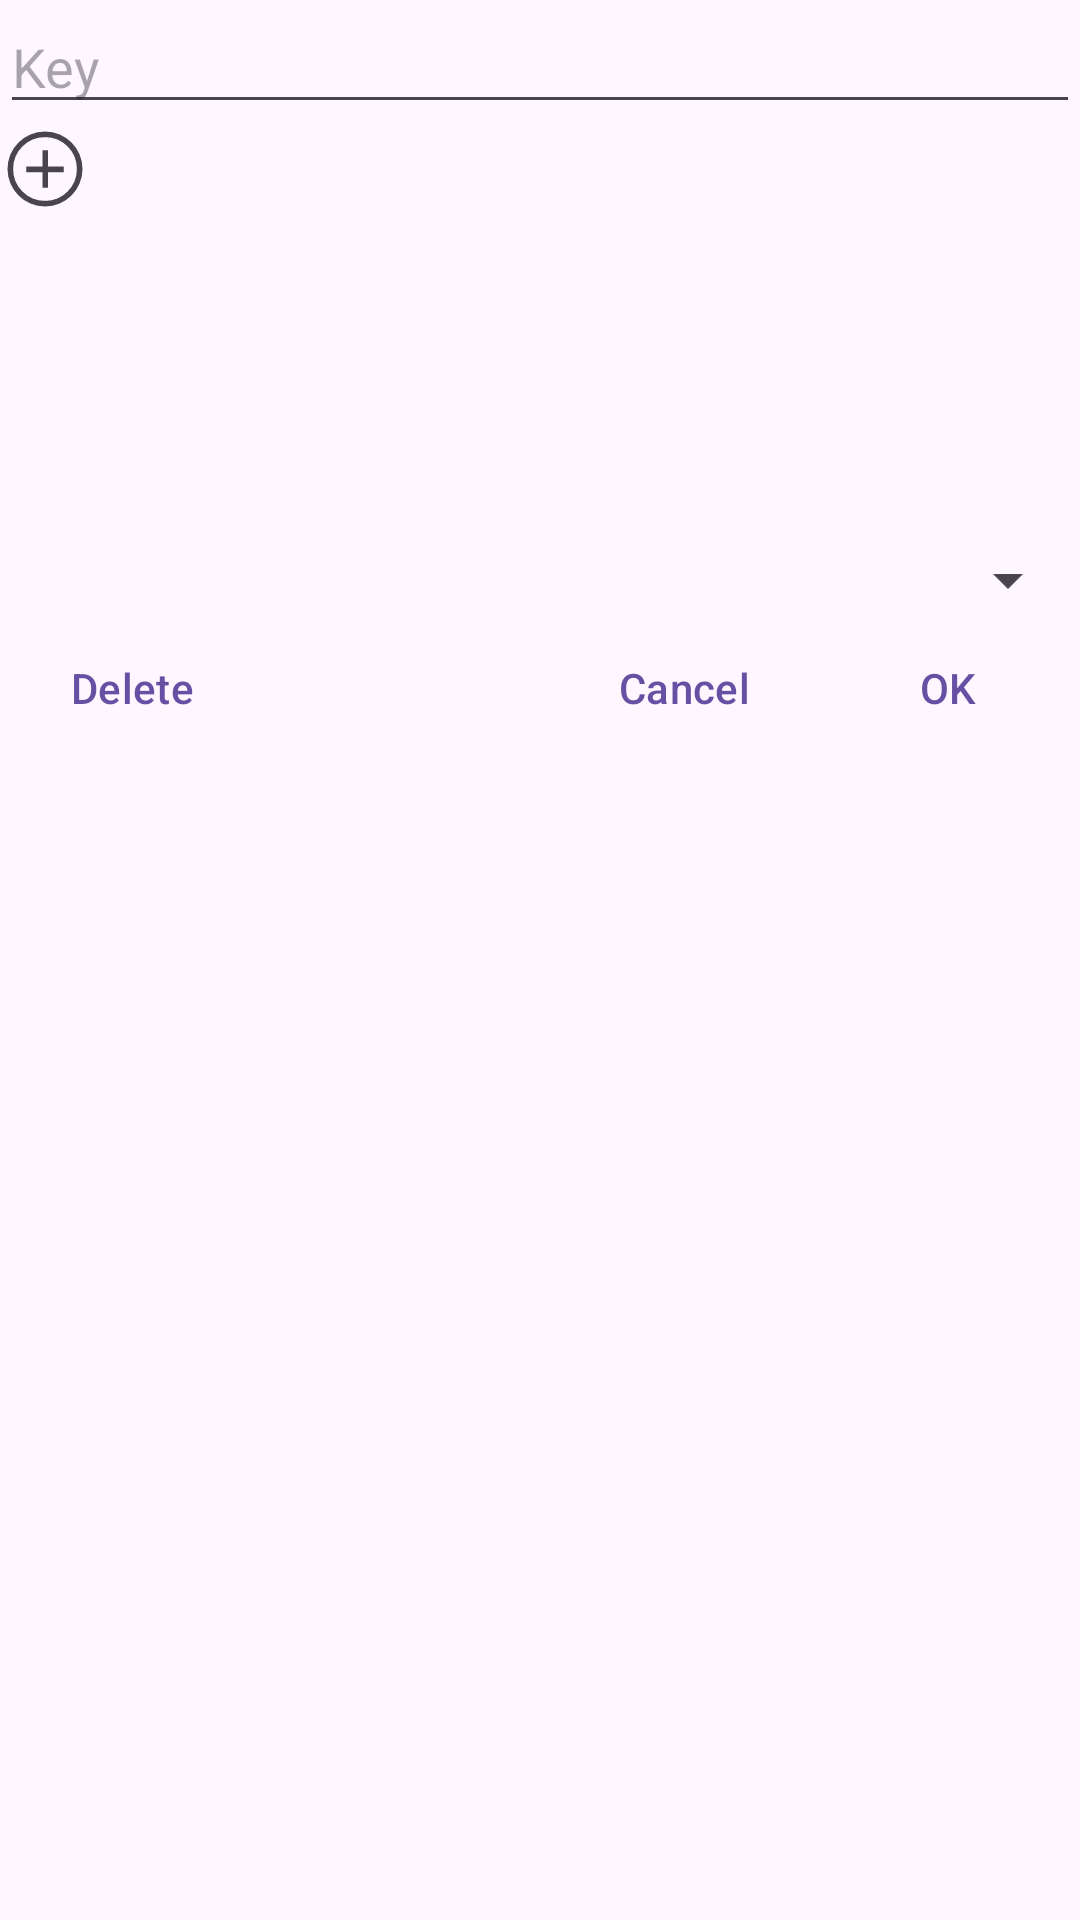

Icon bounding boxes for this 1080px x 1920px phone screenshot, format Rect(x1, y1, x2, y2):
add circle: Rect(7, 131, 83, 207)
